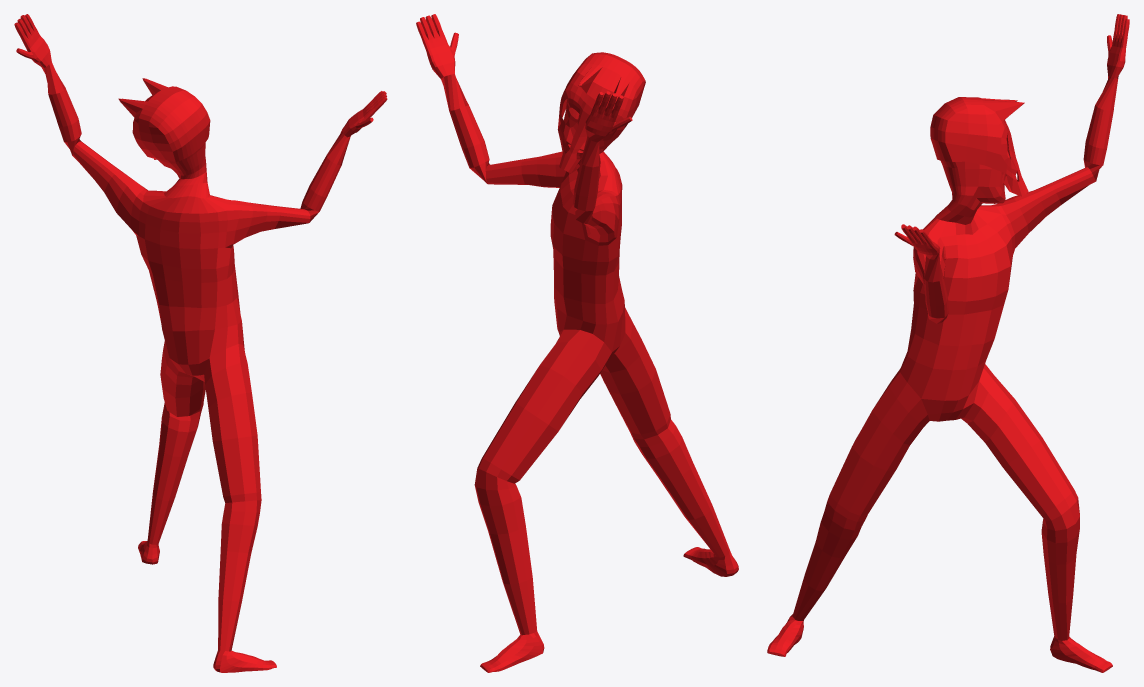
The model's file is activaAlarma_000174.obj.
3 views of the same model, side by side, from view 1: azimuth 30°, elevation 25°; view 2: azimuth 150°, elevation 25°; view 3: azimuth 270°, elevation 25° (orthographic). The views are drawn at different scales.
Visible parts, largest first — view 1: Plane.002_Plane.001; view 2: Plane.002_Plane.001; view 3: Plane.002_Plane.001.
Part boxes in pixels (left/top/right/bottom): Plane.002_Plane.001: left=14, top=14, right=387, bottom=672; Plane.002_Plane.001: left=416, top=14, right=738, bottom=672; Plane.002_Plane.001: left=767, top=14, right=1129, bottom=672.
Bounding box in the file's own units: 3.81 × 7.22 × 3.98.
